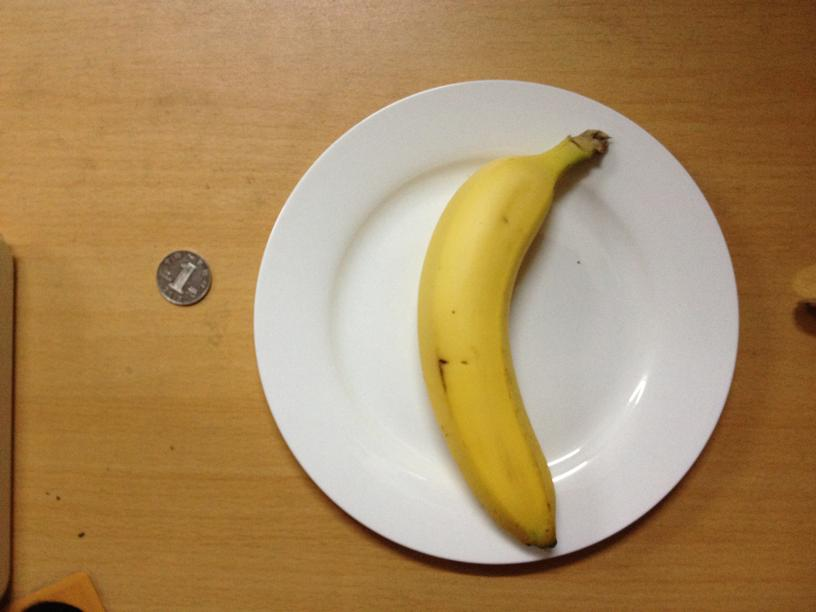banana: (421, 133, 597, 545)
coin: (154, 248, 213, 304)
